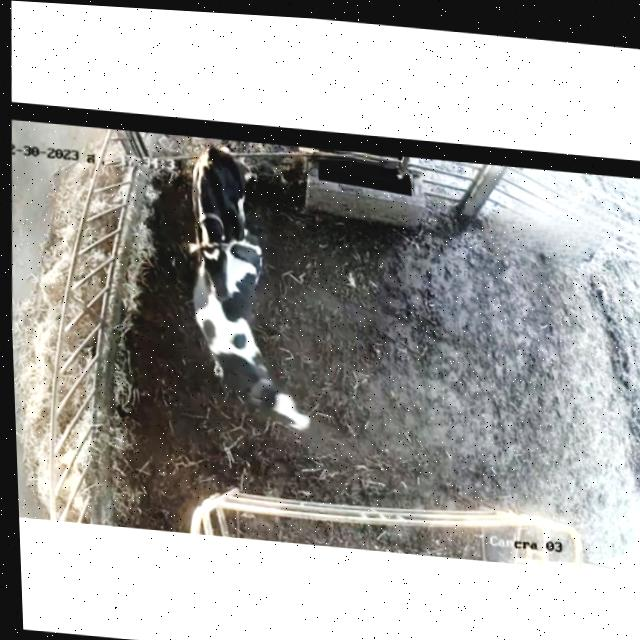propping: (181, 214, 255, 314)
